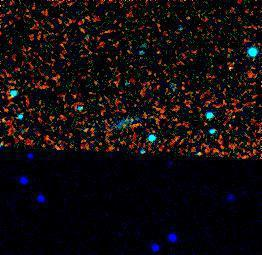star: (237, 37, 262, 67)
